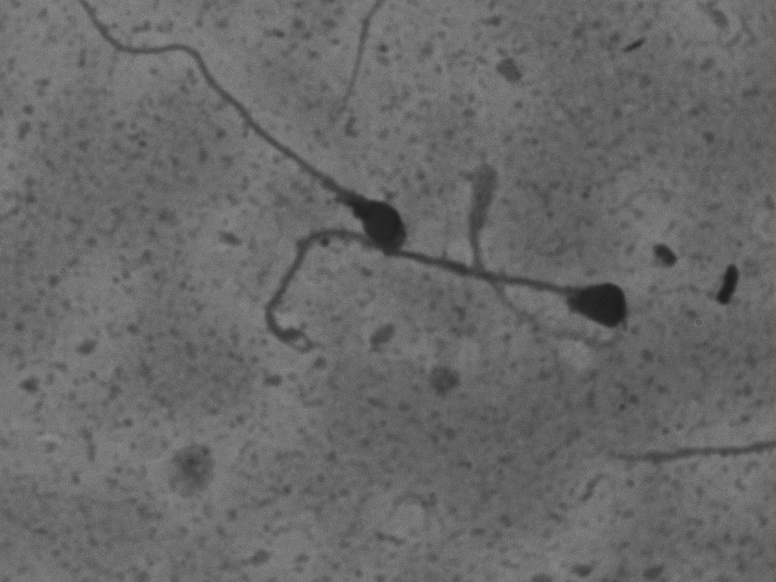Abnormal: (74, 2, 396, 244), (255, 218, 638, 363)
